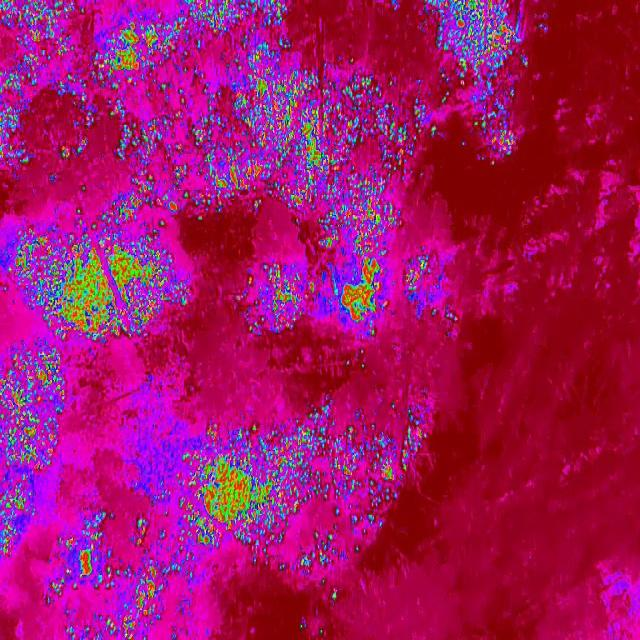fire: (103, 67, 444, 251), (175, 406, 434, 576), (12, 206, 190, 345), (45, 512, 184, 640), (0, 45, 102, 187), (0, 344, 63, 474), (415, 0, 520, 70), (234, 258, 323, 339), (84, 18, 193, 78), (464, 67, 526, 165), (334, 252, 392, 338), (177, 0, 295, 39), (0, 0, 86, 46), (0, 470, 34, 562), (239, 36, 285, 76), (401, 254, 434, 291), (432, 302, 460, 338), (316, 577, 344, 603), (344, 346, 368, 372), (298, 619, 324, 639)
